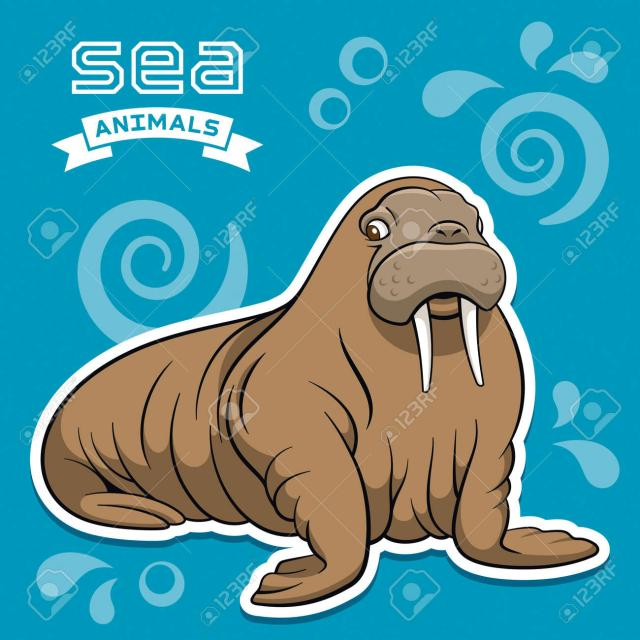walrus: (17, 128, 621, 616)
